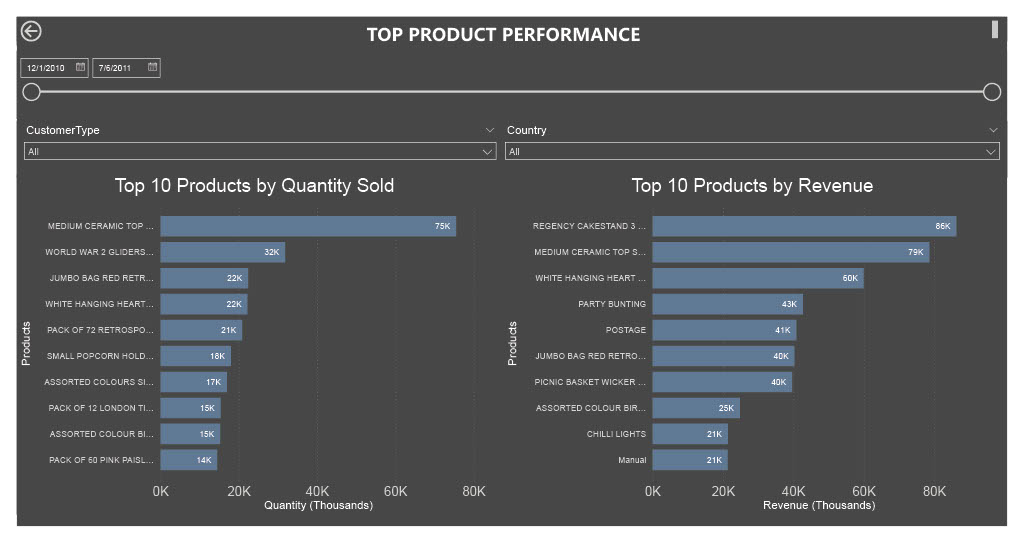

This screenshot's page, from the dashboard's own definition file:
{"tool":"powerbi","page":{"name":"Product Performance","canvas":[1400,720],"ordinal":3},"visuals":[{"type":"textbox","box":[-8,0,1400,40],"z":0},{"type":"slicer","fields":{"Values":["edata_customer_type.InvoiceDate"]},"box":[-8,48,1408,96],"z":1000},{"type":"slicer","fields":{"Values":["edata_customer_type.CustomerType"]},"box":[0,146.9,688,80],"z":2000},{"type":"slicer","fields":{"Values":["edata_customer_type.Country"]},"box":[680,146.9,720,80],"z":3000},{"type":"barChart","title":"Top 10 Products by Revenue","fields":{"Y":["edata_customer_type.Total Revenue"],"Category":["edata_customer_type.Description"]},"box":[688,224,704,480],"z":4000},{"type":"barChart","title":"Top 10 Products by Quantity Sold","fields":{"Y":["Sum(edata_customer_type.Quantity)"],"Category":["edata_customer_type.Description"]},"box":[0,224,672,480],"z":5000},{"type":"actionButton","box":[0,0,100,40],"z":6000}]}

Visuals, with their boxes on the page's 1400x720 design canvas (x1, y1, x2, y2). These are canvas units, not pixel positions in the 1024x543 screenshot, which may show the page scaled, cropped or inside an application window:
textbox: box=[-8, 0, 1392, 40]
slicer - edata_customer_type.InvoiceDate: box=[-8, 48, 1400, 144]
slicer - edata_customer_type.CustomerType: box=[0, 147, 688, 227]
slicer - edata_customer_type.Country: box=[680, 147, 1400, 227]
"Top 10 Products by Revenue" barChart: box=[688, 224, 1392, 704]
"Top 10 Products by Quantity Sold" barChart: box=[0, 224, 672, 704]
actionButton: box=[0, 0, 100, 40]
